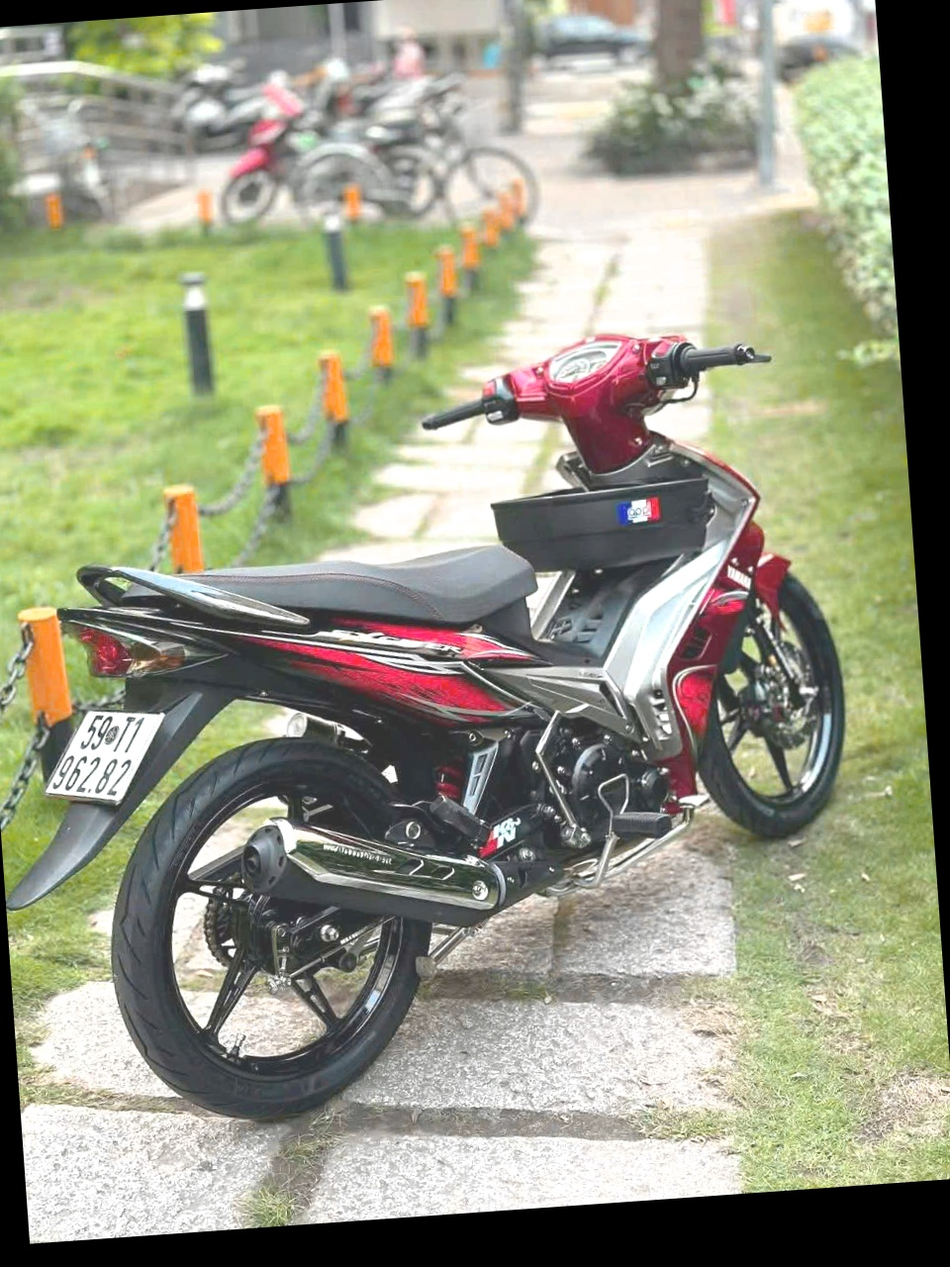Bien-so: (45, 707, 169, 810)
